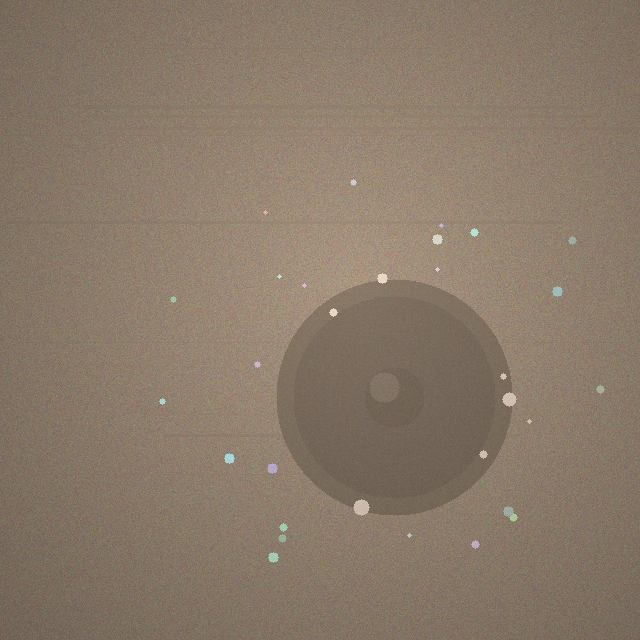overburn: (276, 279, 512, 515)
